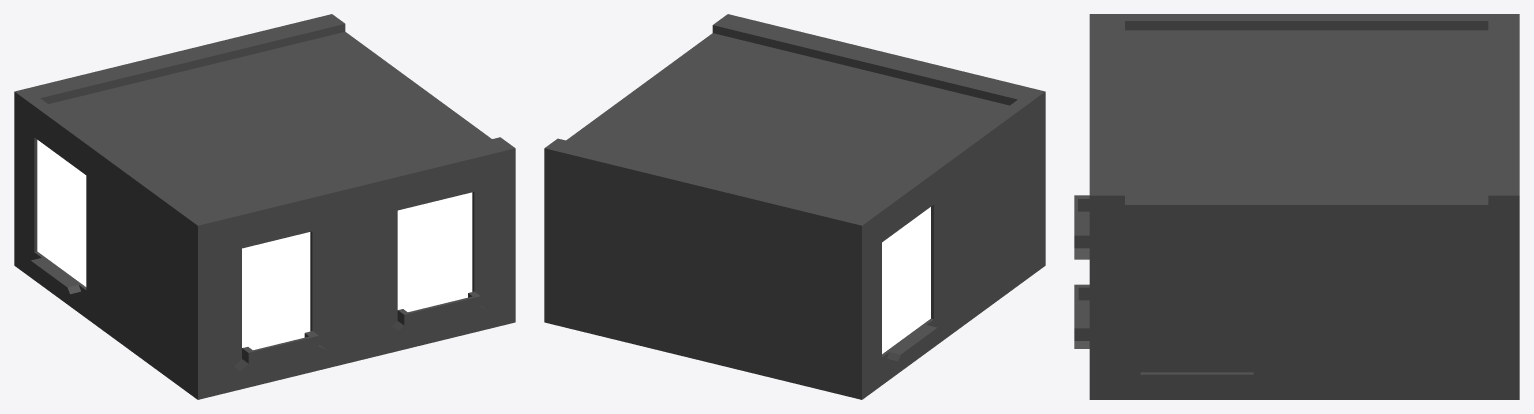
The model's file is Immeuble1Haut2.fbx.
The picture shows the model from 3 angles, left to right: view 1: azimuth 30°, elevation 25°; view 2: azimuth 150°, elevation 25°; view 3: azimuth 270°, elevation 25°; orthographic projection. The views are drawn at different scales.
Parts seen in each view (by area): view 1: Cube.006; view 2: Cube.006; view 3: Cube.006.
Part boxes in pixels (left/top/right/bottom): Cube.006: left=14, top=14, right=515, bottom=399; Cube.006: left=544, top=14, right=1045, bottom=399; Cube.006: left=1074, top=14, right=1519, bottom=399.
Bounding box in the file's own units: 2071 × 1048 × 2071.
